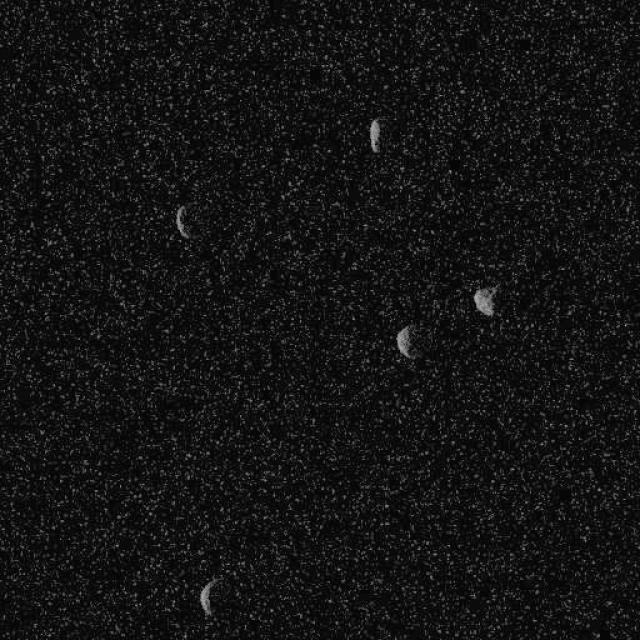D2: (198, 575, 222, 617), (395, 322, 417, 360), (472, 285, 498, 317), (174, 202, 190, 238), (368, 118, 382, 154)
